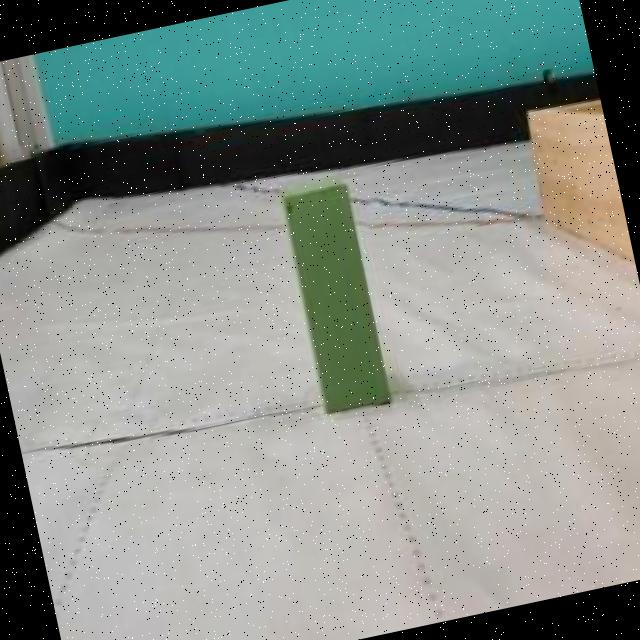greenbox: (273, 174, 396, 419)
